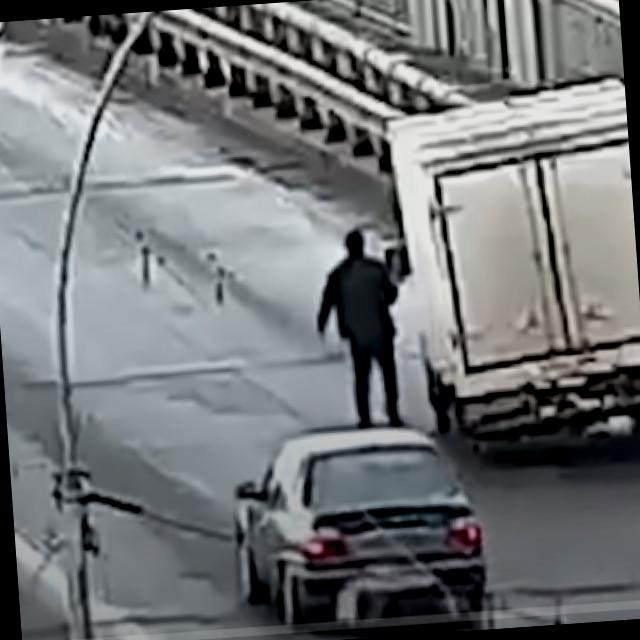person: (309, 228, 408, 430)
